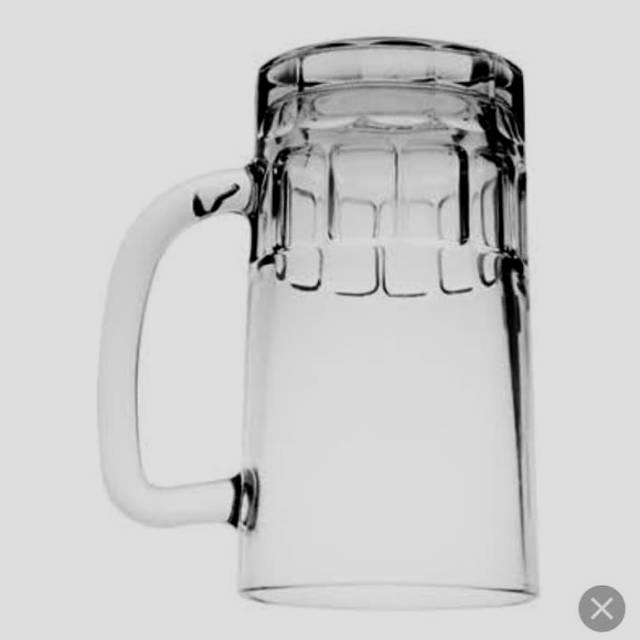Cangkir: (120, 0, 565, 630)
